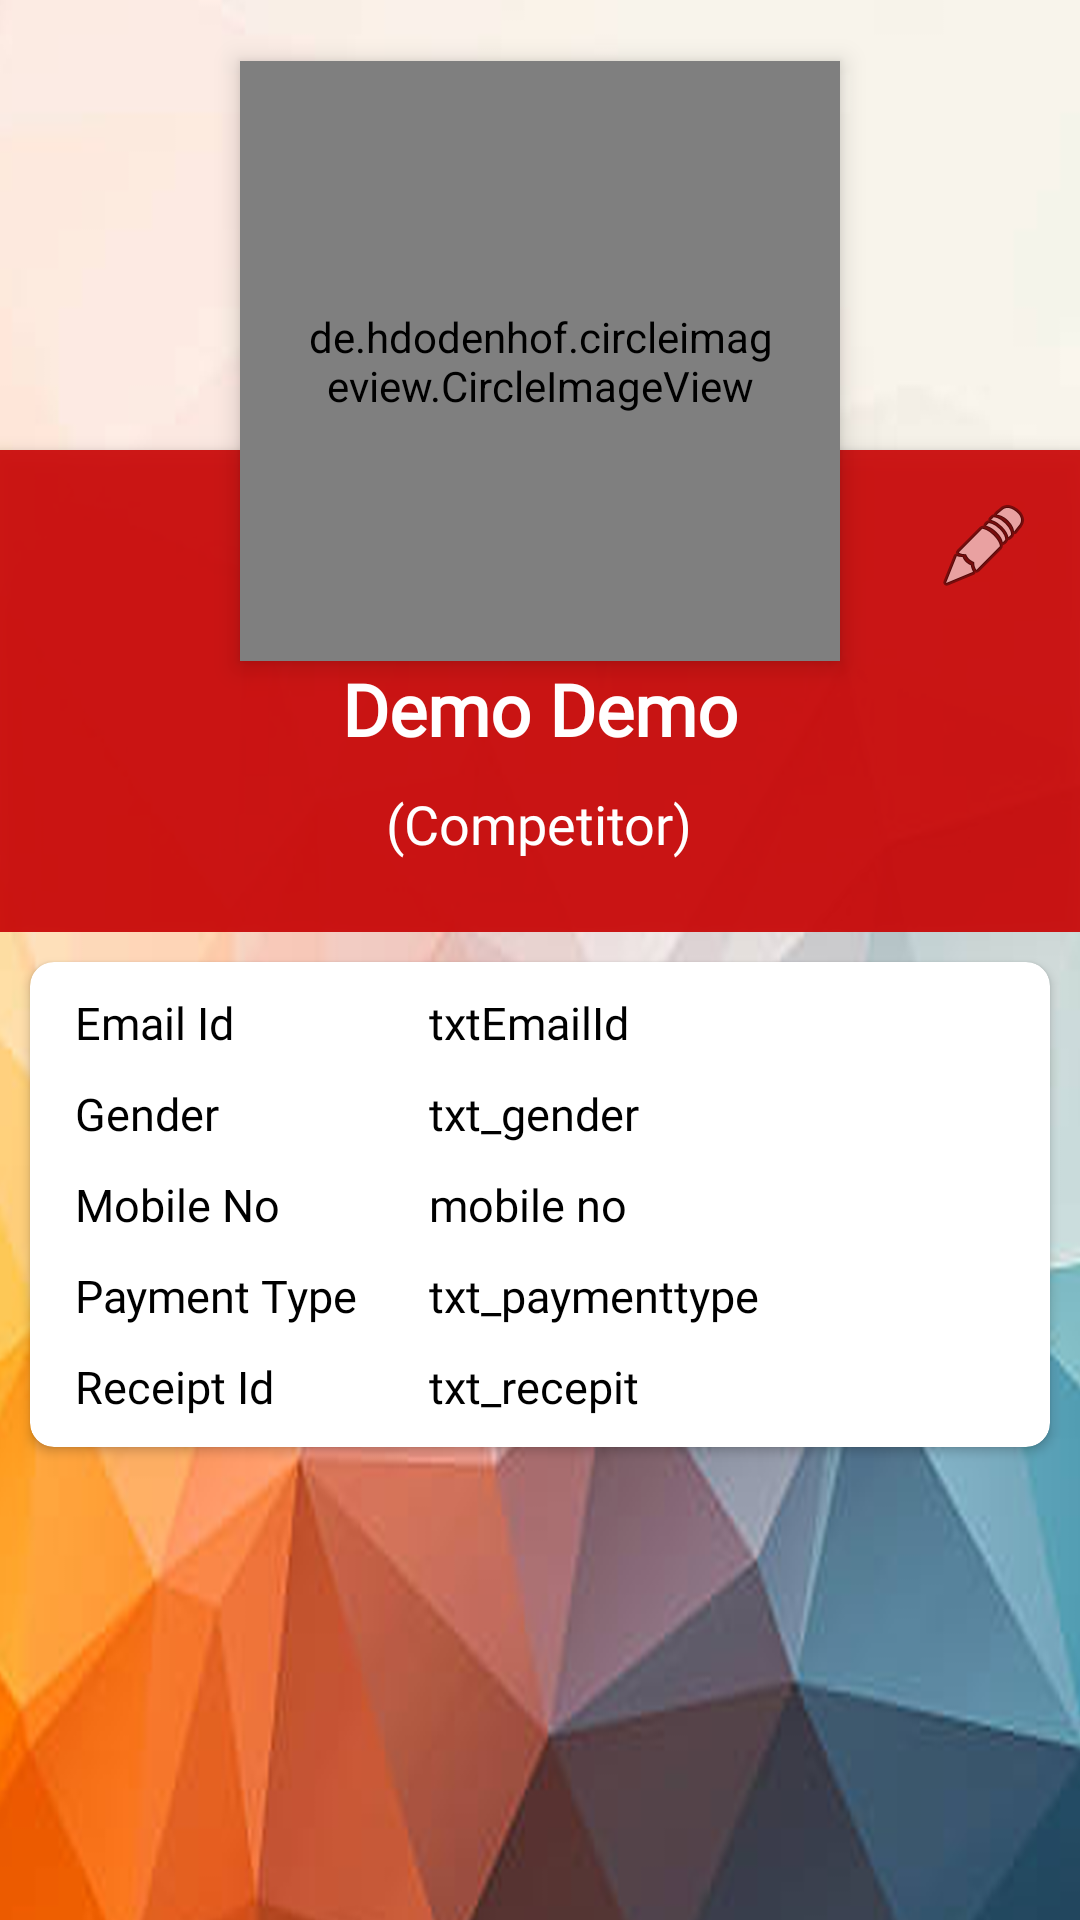

Named icons in this screenshot (1080 x 1920) and their bounding boxes, (x1, y1, x2, y2):
edit: (943, 505, 1024, 586)
